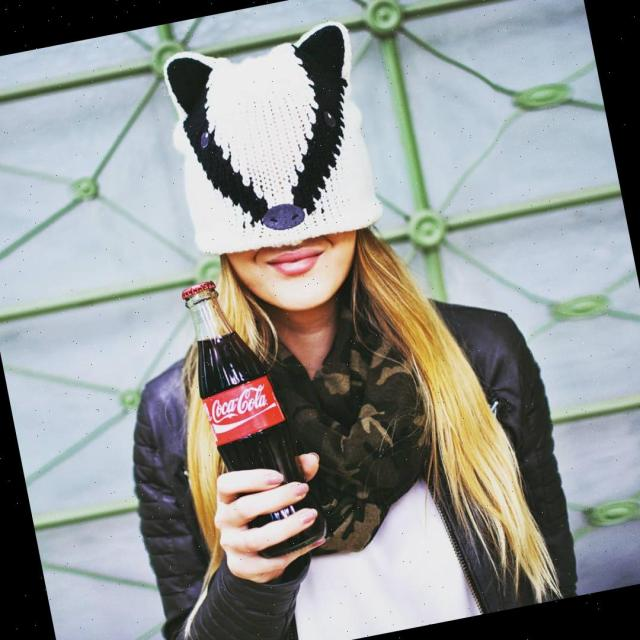coca-cola: (175, 266, 335, 567)
